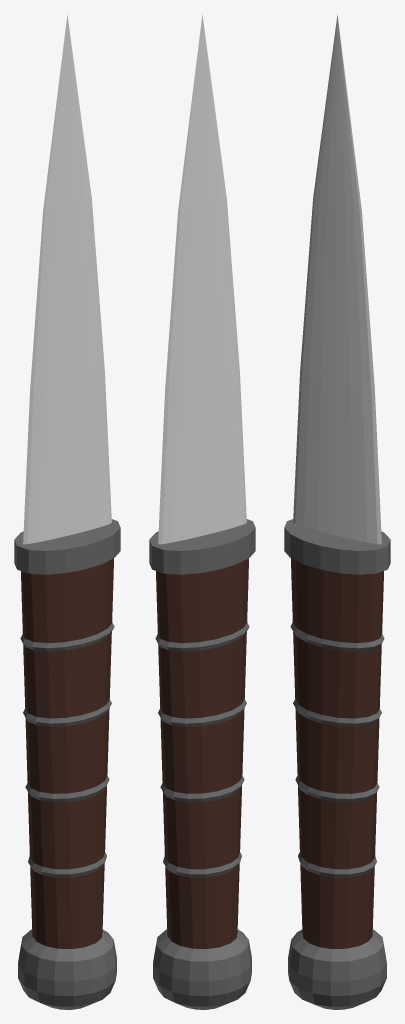
File: Dagger.fbx
The picture shows the model from 3 angles, left to right: view 1: azimuth 30°, elevation 25°; view 2: azimuth 210°, elevation 25°; view 3: azimuth 330°, elevation 25°; orthographic projection.
Parts seen in each view (by area): view 1: Dagger; view 2: Dagger; view 3: Dagger.
Part boxes in pixels (x1,y1,x2,y2): Dagger: (14, 14, 120, 1009); Dagger: (149, 14, 255, 1009); Dagger: (284, 14, 390, 1009).
Bounding box in the file's own units: 3.56 × 33.15 × 3.05.
